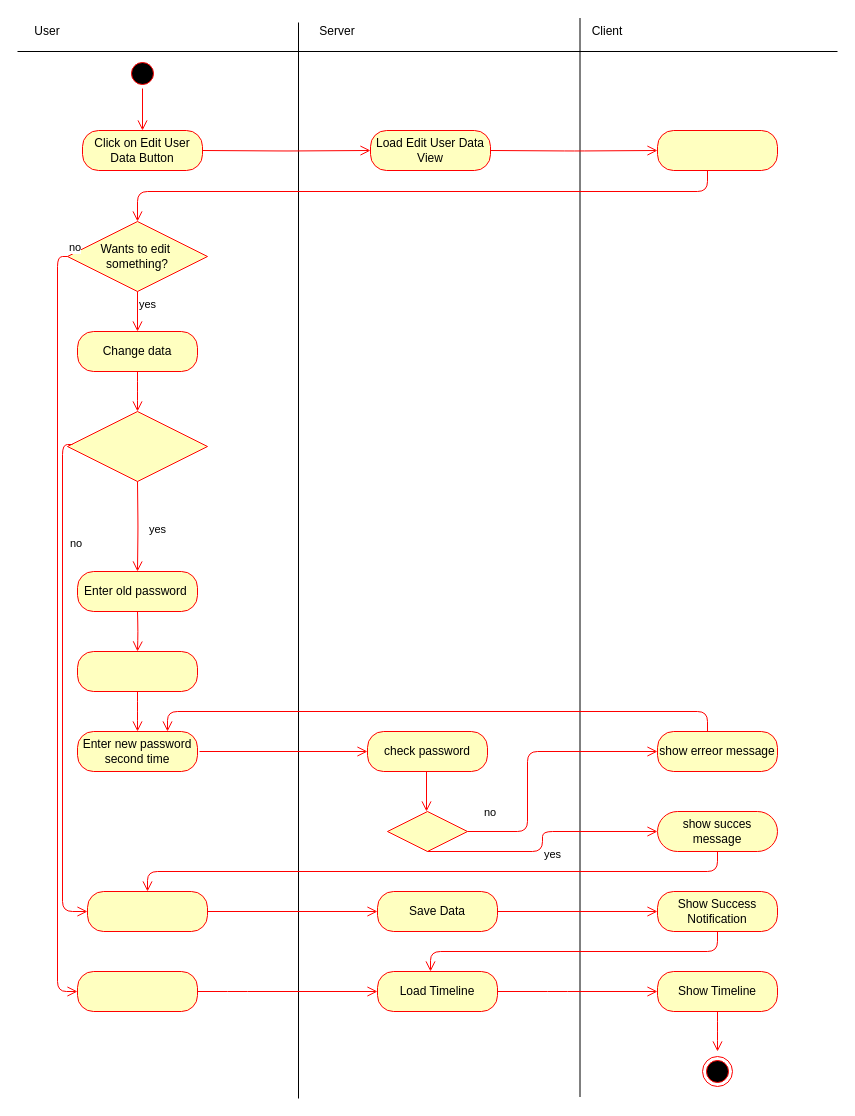
This 855x1116 diagram has some shape labels left out. The box of each missing label's shape, as (x1, y1, x2, y2) in pixels:
Enter new password first time: (76, 650, 198, 692)
equal?: (386, 810, 468, 852)
Press Cancel Button: (76, 970, 198, 1012)
Press Save Button: (86, 890, 208, 932)
Show Edit User Data View: (656, 130, 778, 170)
Wants do change password?: (66, 410, 208, 482)
